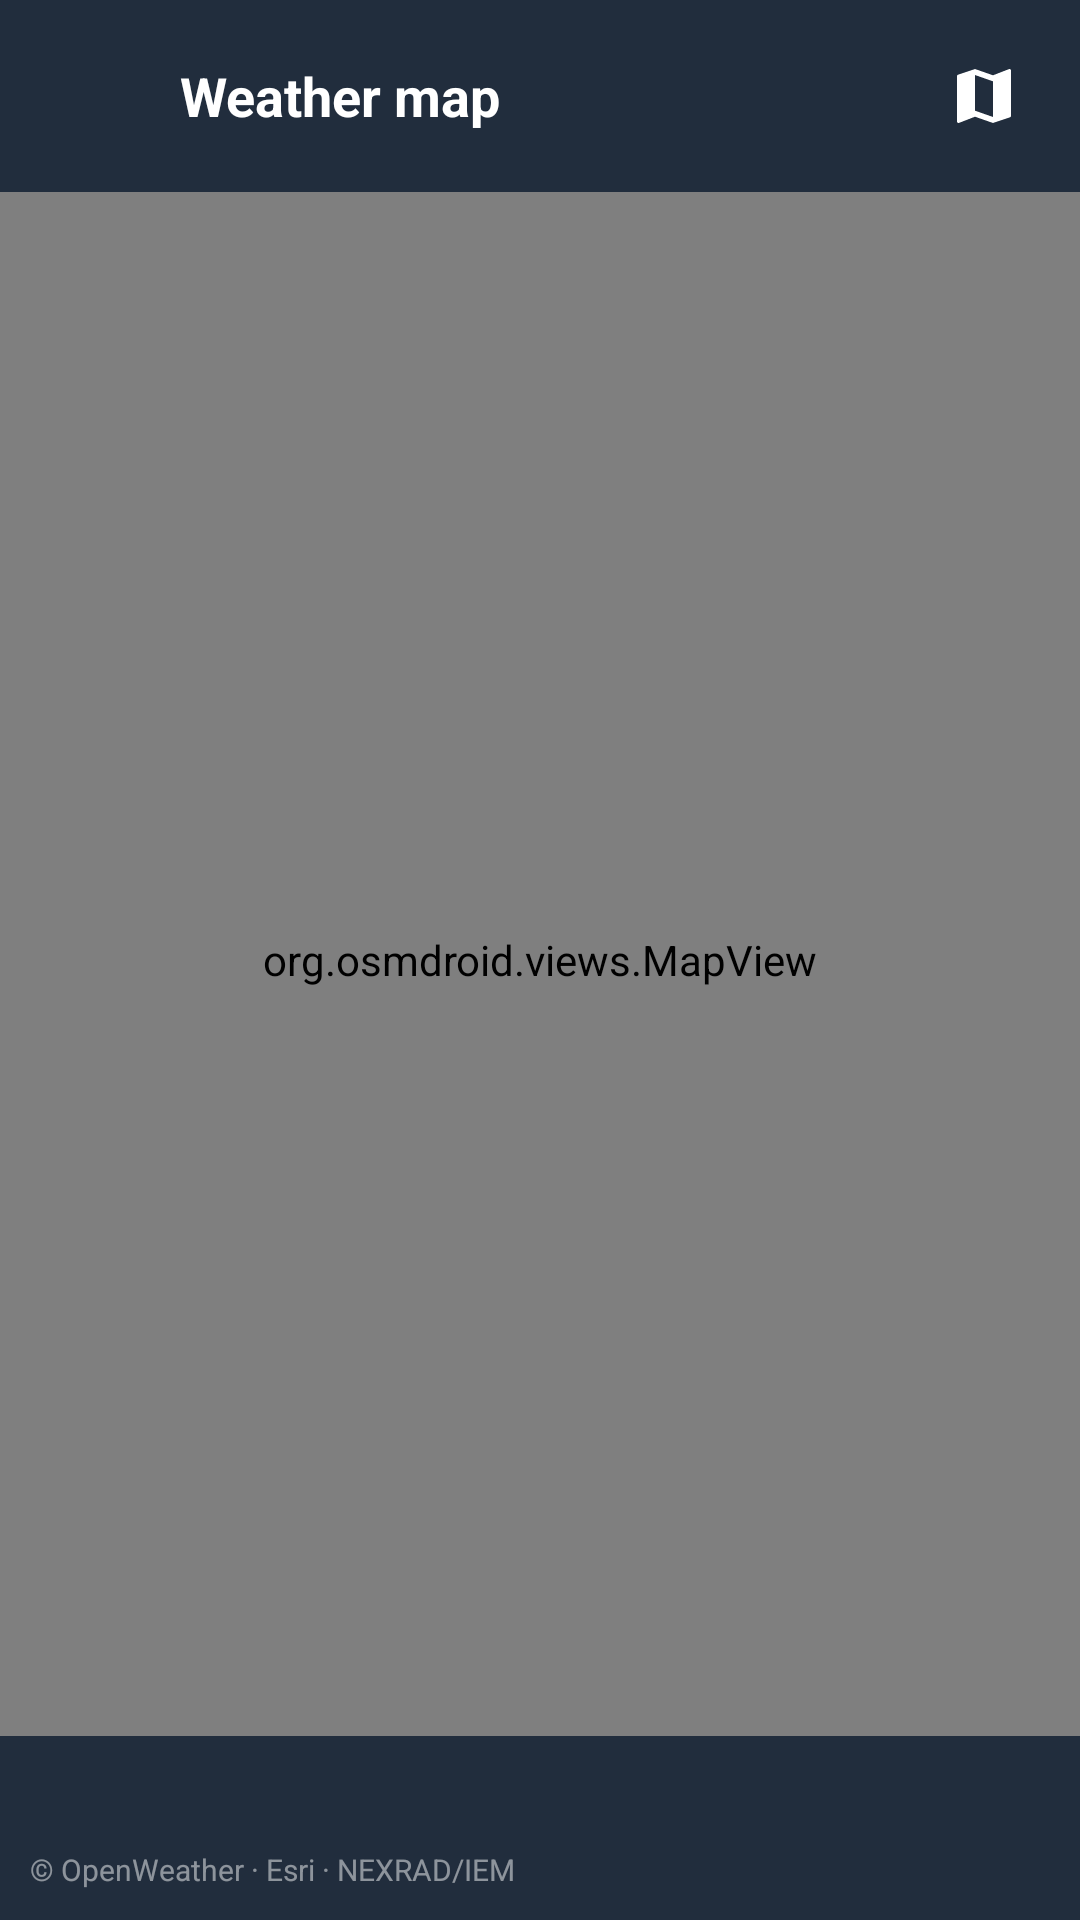

Locate icon controls on the screen. Image size 1080×1920, boxes as (x1, y1, x2, y2).
Switch layer: (957, 69, 1011, 123)
